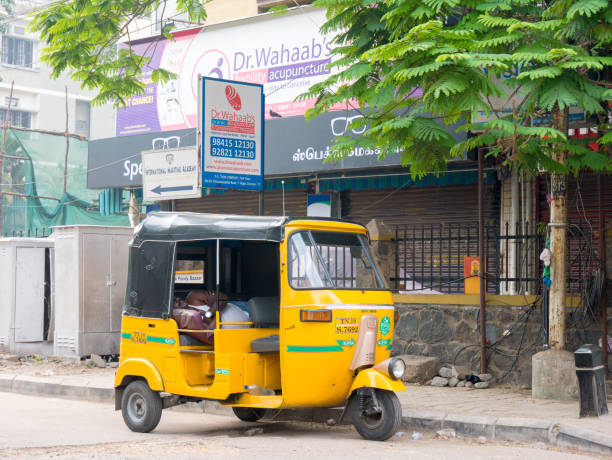auto: (116, 209, 416, 451)
